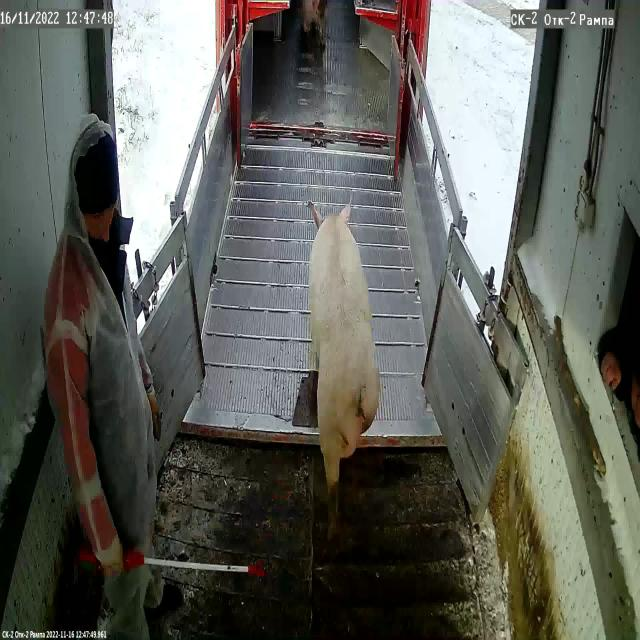pig: (308, 202, 380, 488)
